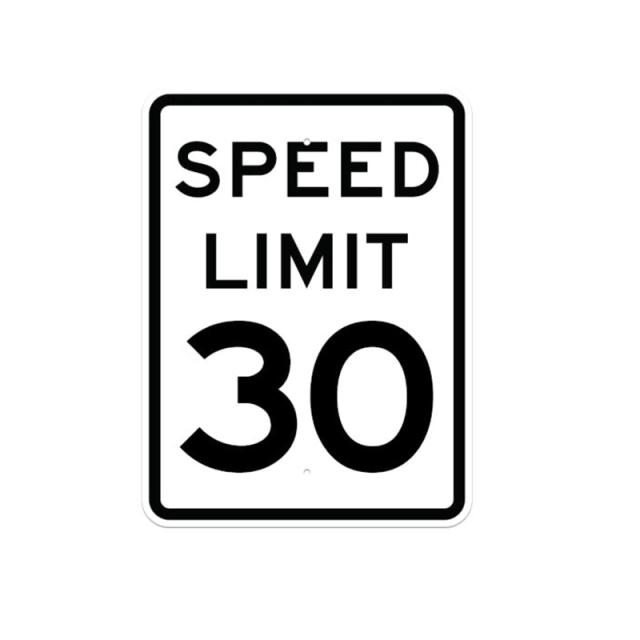speedLimit30: (137, 88, 486, 534)
